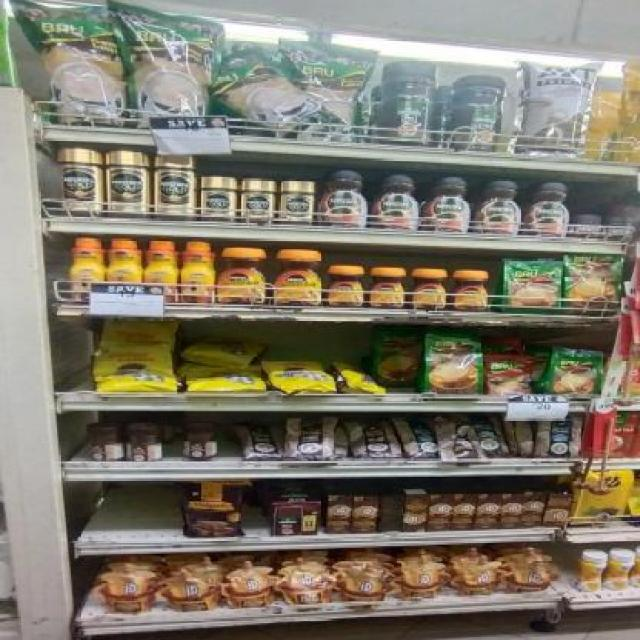Coffee: (101, 150, 150, 218), (58, 148, 104, 218), (154, 152, 197, 220), (273, 249, 321, 306), (217, 248, 266, 303), (319, 169, 366, 226), (371, 174, 418, 229), (476, 178, 521, 234), (425, 175, 469, 231), (527, 180, 567, 238), (71, 238, 104, 300), (182, 242, 213, 304), (369, 268, 408, 309), (452, 270, 491, 310), (201, 178, 236, 222), (106, 240, 142, 282), (278, 180, 313, 223), (145, 240, 178, 285), (328, 266, 363, 308), (412, 268, 446, 308), (242, 178, 273, 220), (602, 216, 635, 240), (571, 214, 598, 237)
